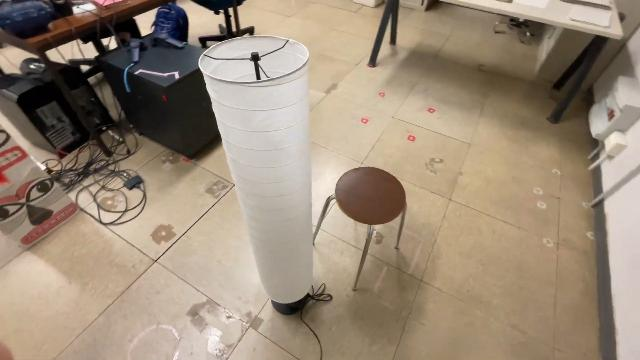Lamp: (198, 30, 314, 318)
Stool: (310, 164, 410, 294)
